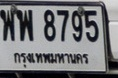txt25: (15, 8, 34, 43), (1, 9, 16, 42)
